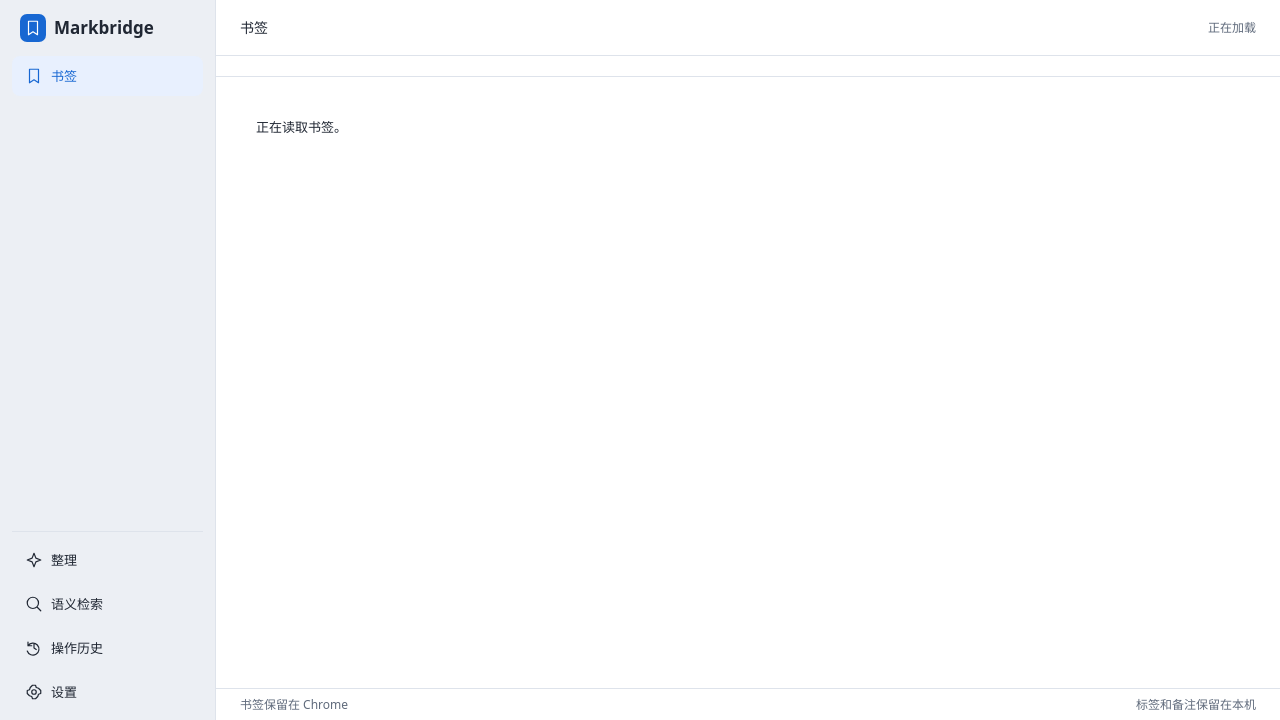
Test: shows safe startup failure without raw details
Click the button "设置": (108, 692) x1=12 y1=672 x2=203 y2=712
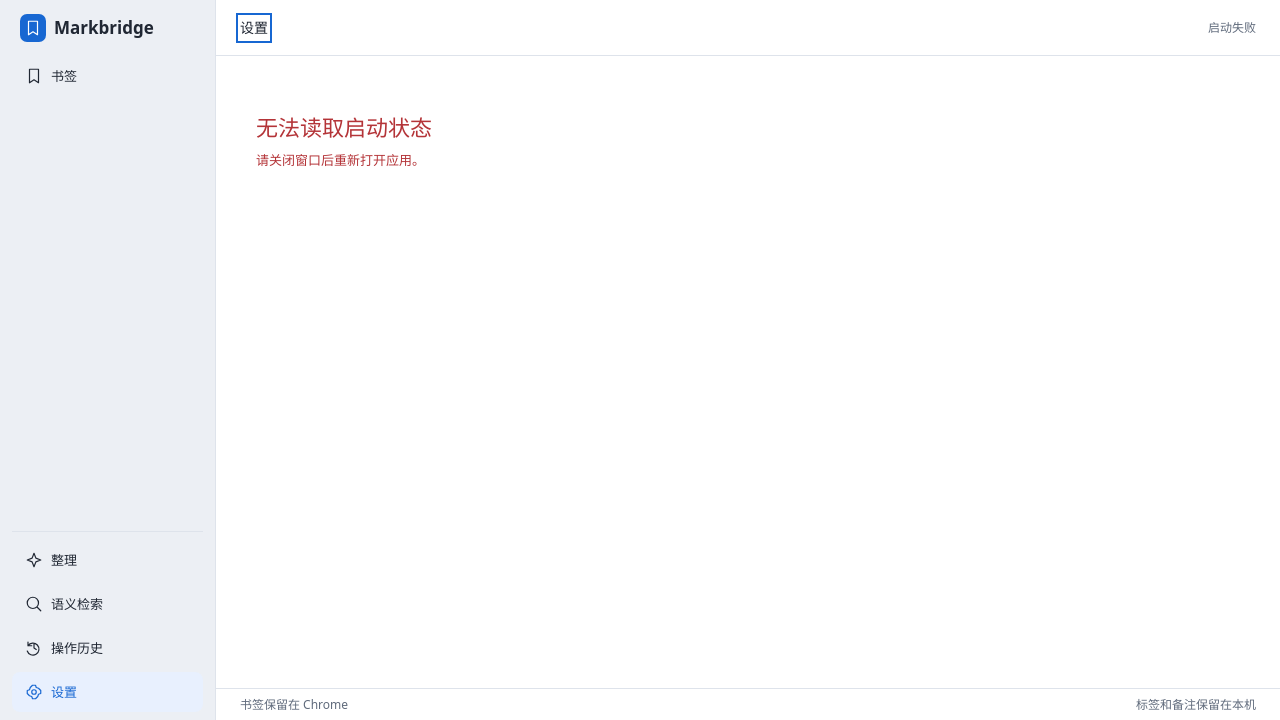
Expected: the message "无法读取启动状态 请关闭窗口后重新打开应用。" is shown, x1=256 y1=112 x2=432 y2=169
